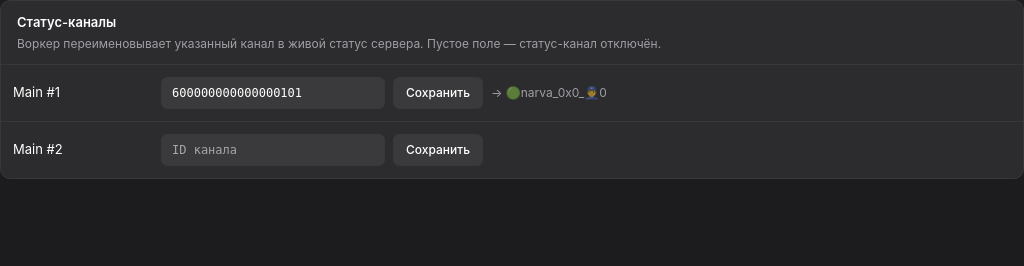
Test case: DiscordStatusChannelsSection › surfaces a save failure to the operator
This screenshot has width=1024, height=266.
Type "600000000000000202" into the field named "ID статус-канала для Main #2" at (273, 150), box [161,134,385,166]
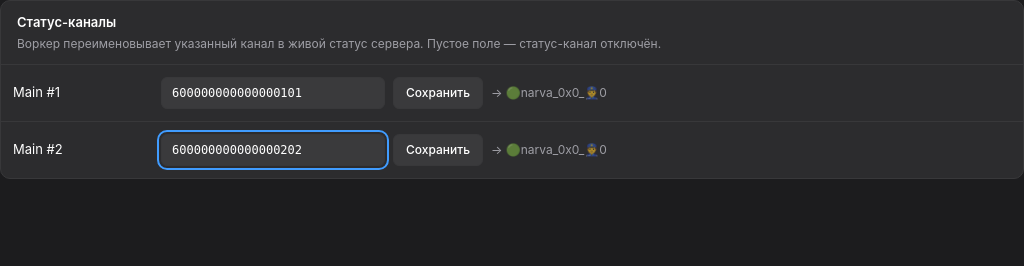
Click the button with aria-label "Сохранить статус-канал Main #2" at (438, 150), box [393,134,483,166]
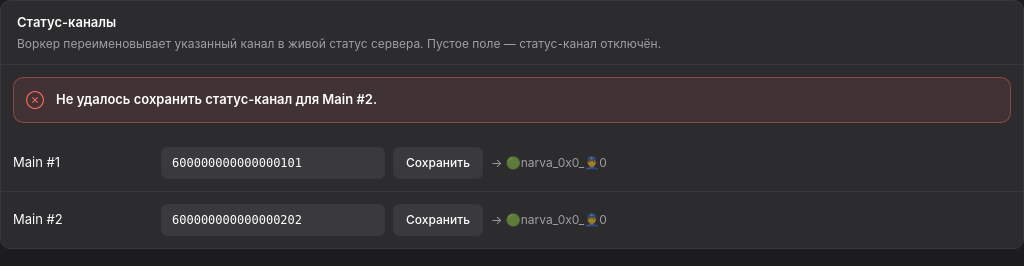
Result: the message shows "Не удалось" at [56,91,377,107]
